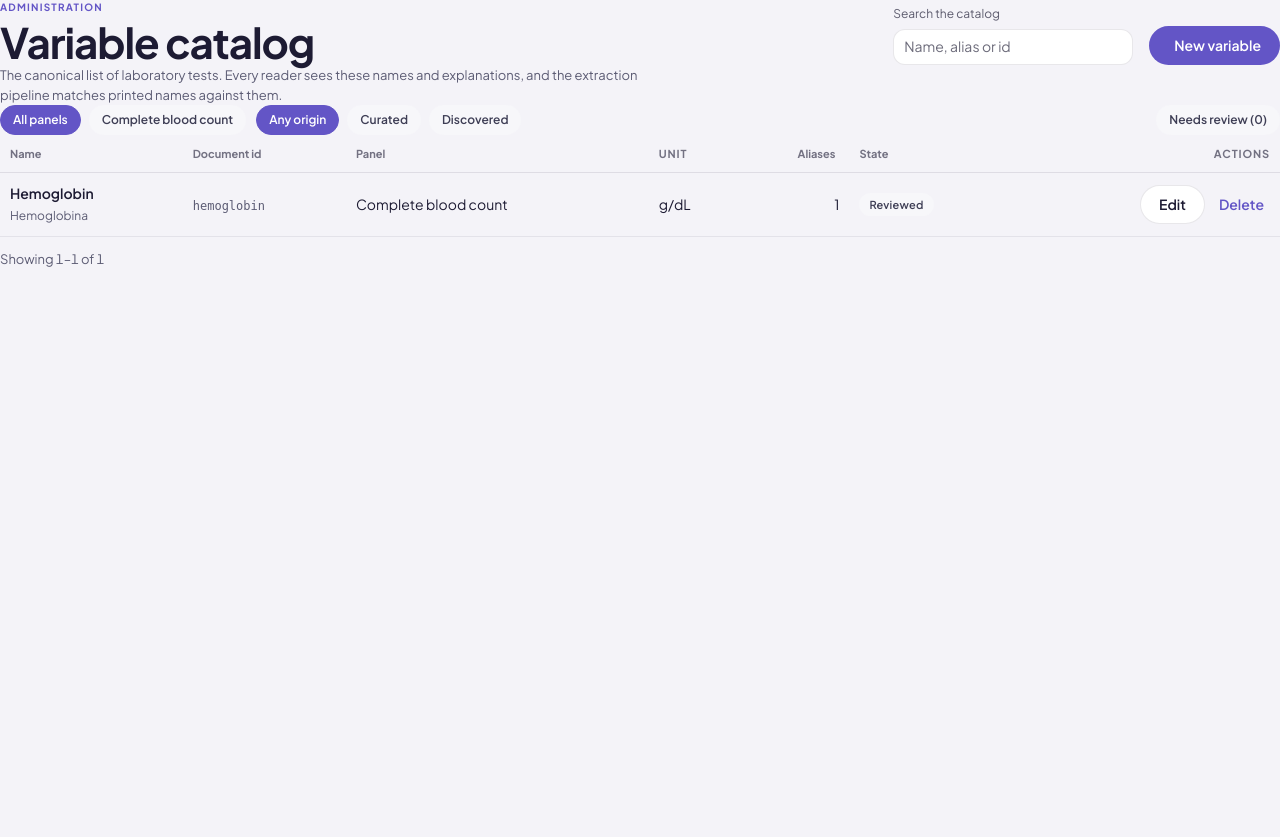
editing a variable › does not offer to change the id of an entry results already point at
The width and height of the screenshot is (1280, 837).
Click the button with aria-label "Edit Hemoglobin". click: (1172, 205)
box: [1140, 185, 1205, 224]
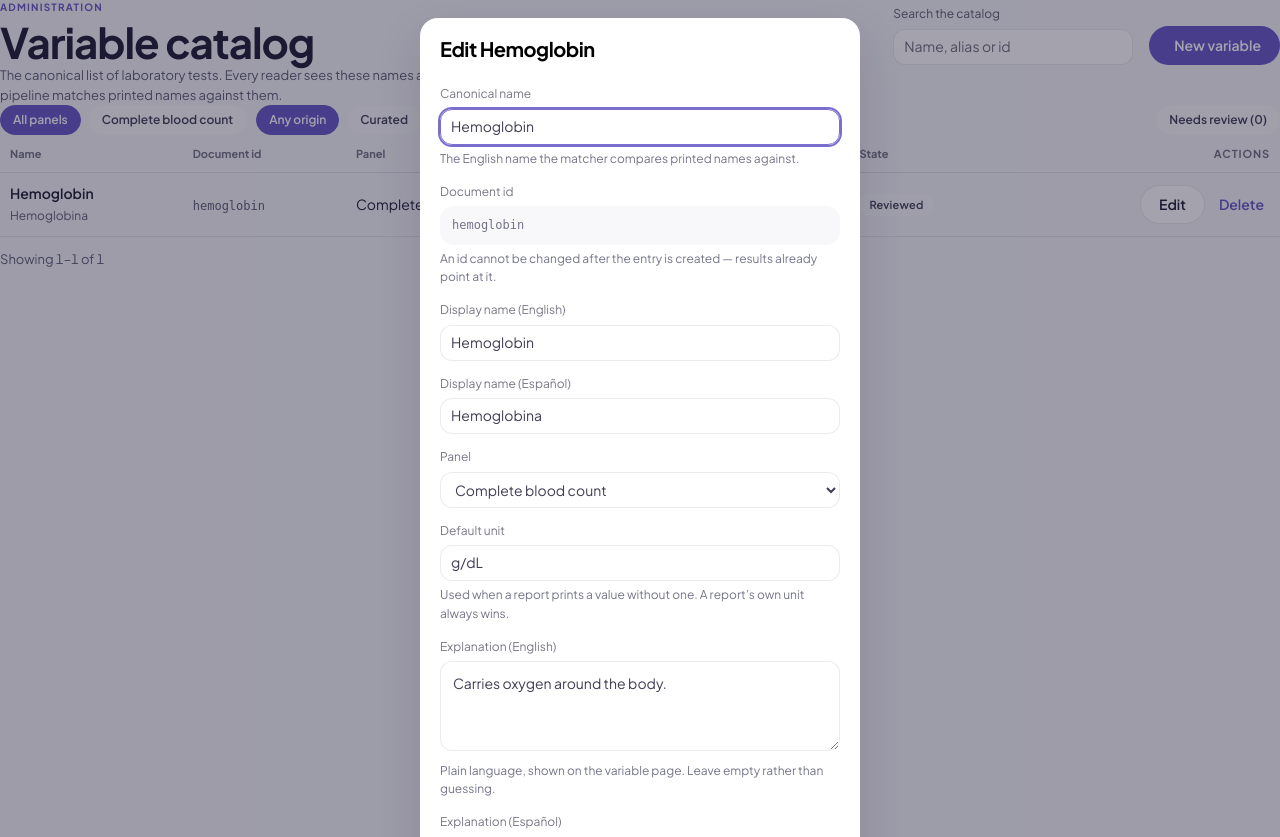
Check: the text "An id cannot be changed after the entry is created — results already point at it." is shown, box [440, 251, 817, 284]
